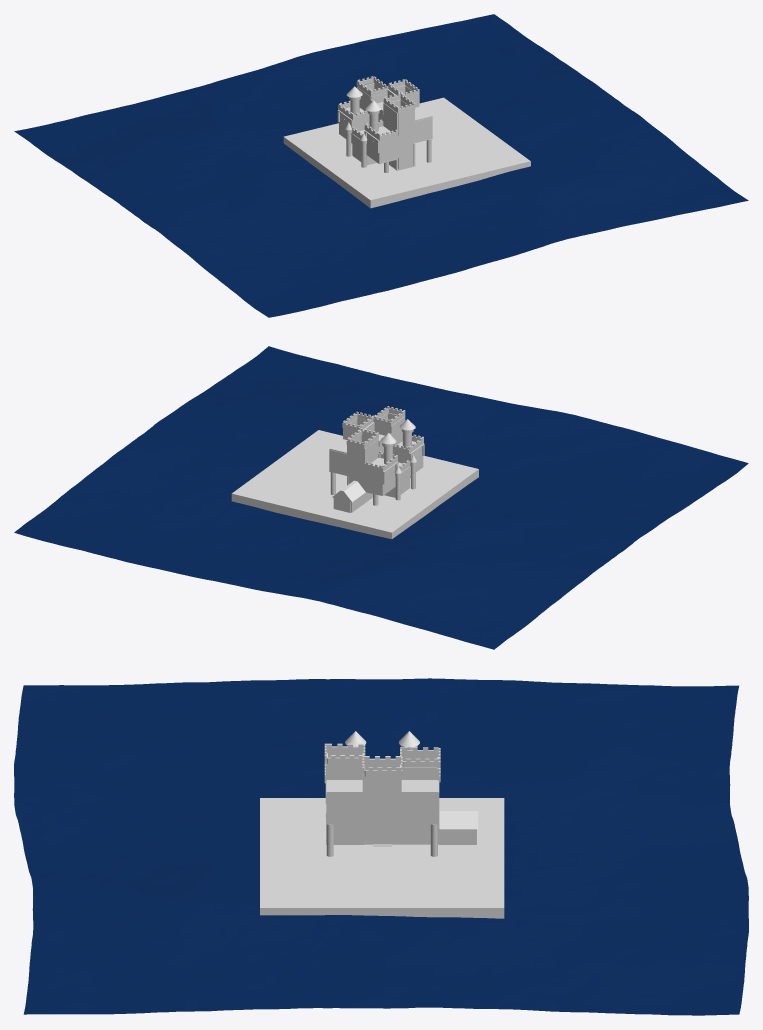
The model's file is castle8__.fbx.
The picture shows the model from 3 angles, top to bottom: view 1: azimuth 30°, elevation 25°; view 2: azimuth 150°, elevation 25°; view 3: azimuth 270°, elevation 25°; orthographic projection. The views are drawn at different scales.
Visible parts, largest first — view 1: Plane, water, Cube.111; view 2: Plane, water, Cube.102; view 3: Plane, water, Cube.047, Cube.051, Cube.002, stairs and exterior.011, stairs and exterior.007, stairs and exterior.005, stairs and exterior.004, Cube.022, Cube.020.
Part boxes in pixels (bbox=[...]): Plane: bbox=[14, 14, 748, 317]; water: bbox=[283, 97, 530, 208]; Cube.111: bbox=[380, 110, 432, 169]; Plane: bbox=[14, 346, 748, 649]; water: bbox=[231, 430, 478, 539]; Cube.102: bbox=[330, 445, 381, 495]; Plane: bbox=[14, 678, 748, 1015]; water: bbox=[260, 798, 504, 918]; Cube.047: bbox=[326, 792, 439, 824]; Cube.051: bbox=[365, 824, 438, 843]; Cube.002: bbox=[326, 813, 476, 844]; stairs and exterior.011: bbox=[439, 808, 478, 829]; stairs and exterior.007: bbox=[362, 756, 402, 776]; stairs and exterior.005: bbox=[324, 743, 365, 764]; stairs and exterior.004: bbox=[400, 747, 440, 767]; Cube.022: bbox=[363, 776, 401, 792]; Cube.020: bbox=[326, 764, 362, 781].
Size of the model in its own units: 17531 by 2872 by 16482.
